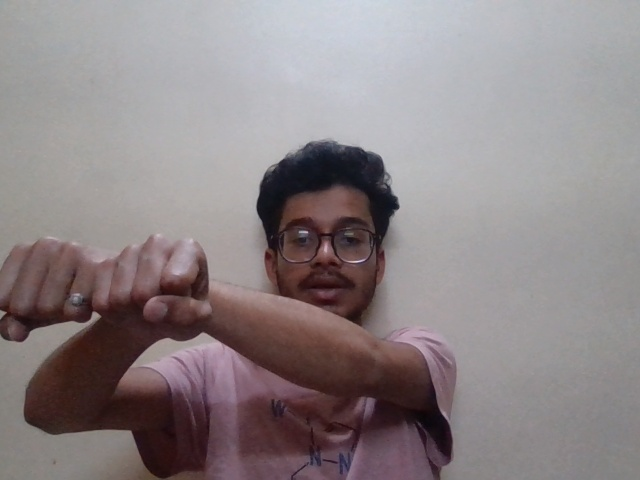work: (1, 206, 221, 364)
